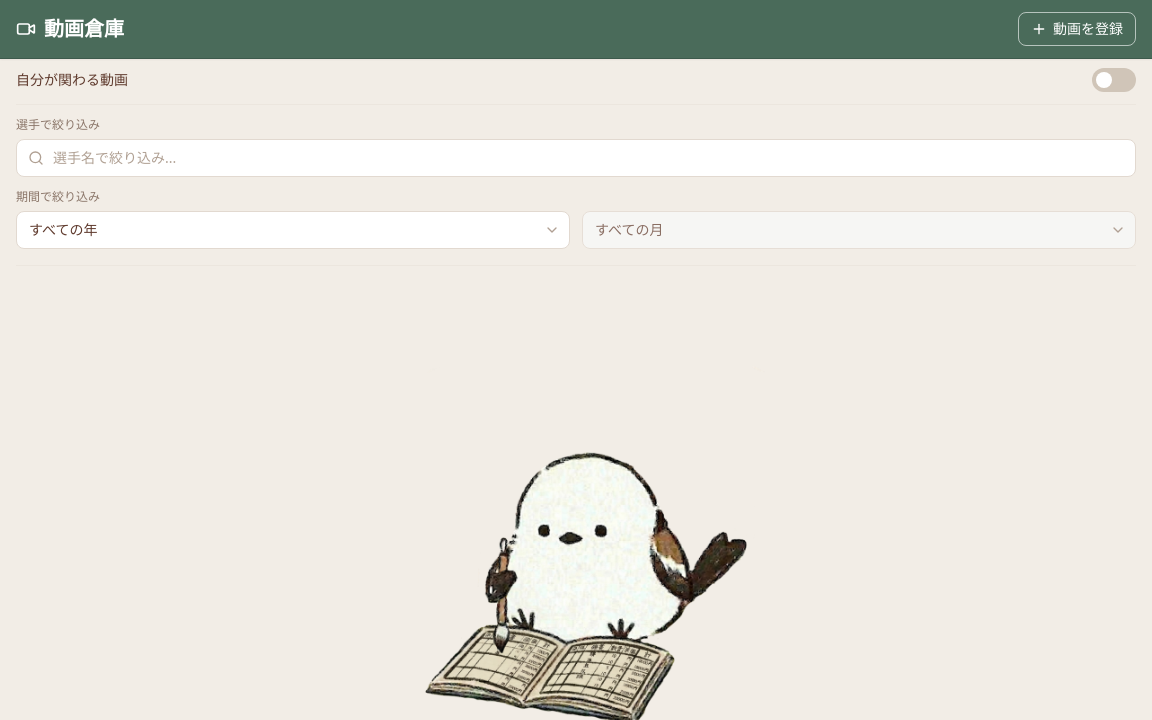
VideoLibrary - 検索条件変更時の取得競合 › 古い（遅い）レスポンスが新条件の一覧を上書きしない（連番でstale破棄）
条件変更（mine ON）
Click the button "自分が関わる動画". click: (72, 80)
box: x1=16 y1=68 x2=1136 y2=105
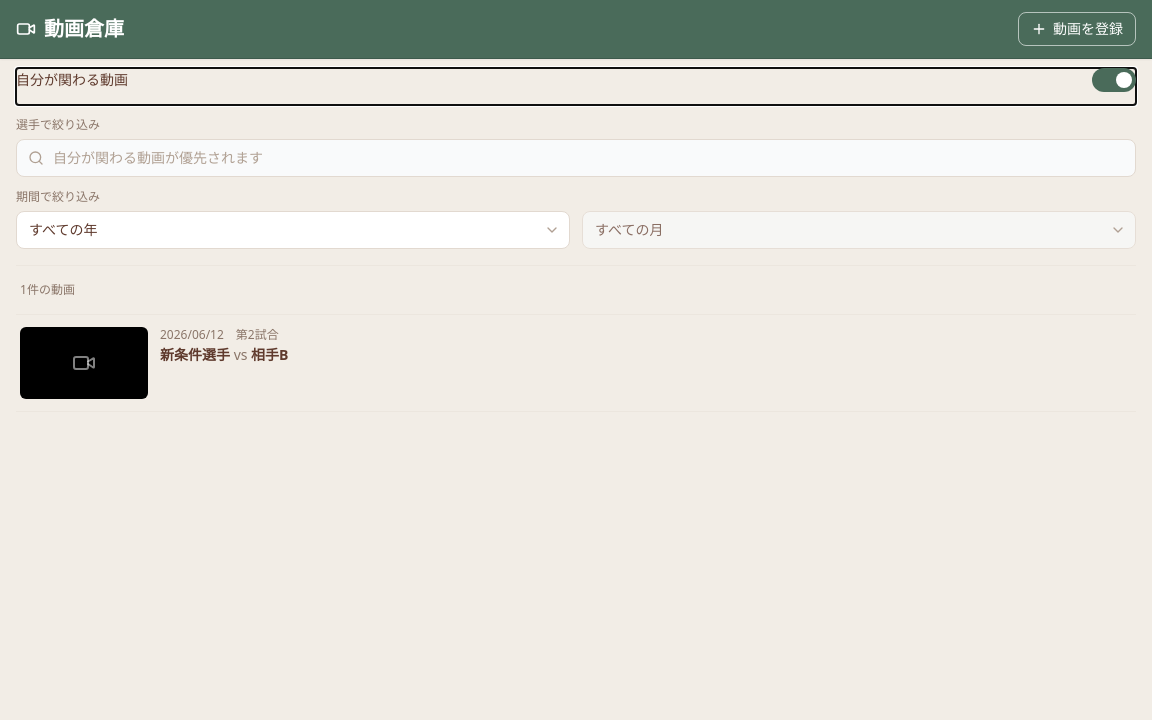
expect the text "新条件選手 vs 相手B" is shown: met, box x1=160 y1=345 x2=288 y2=364
